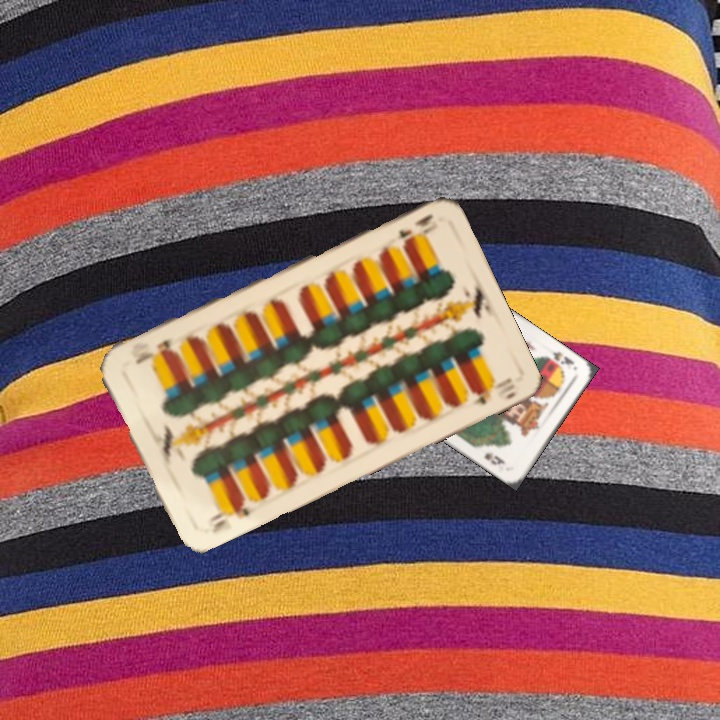E10: (204, 495, 253, 536), (392, 210, 437, 244)
SK: (541, 347, 579, 373)
